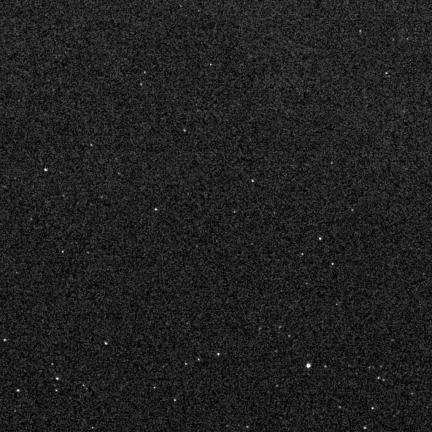blob: (306, 363, 311, 368), (45, 168, 48, 172)
